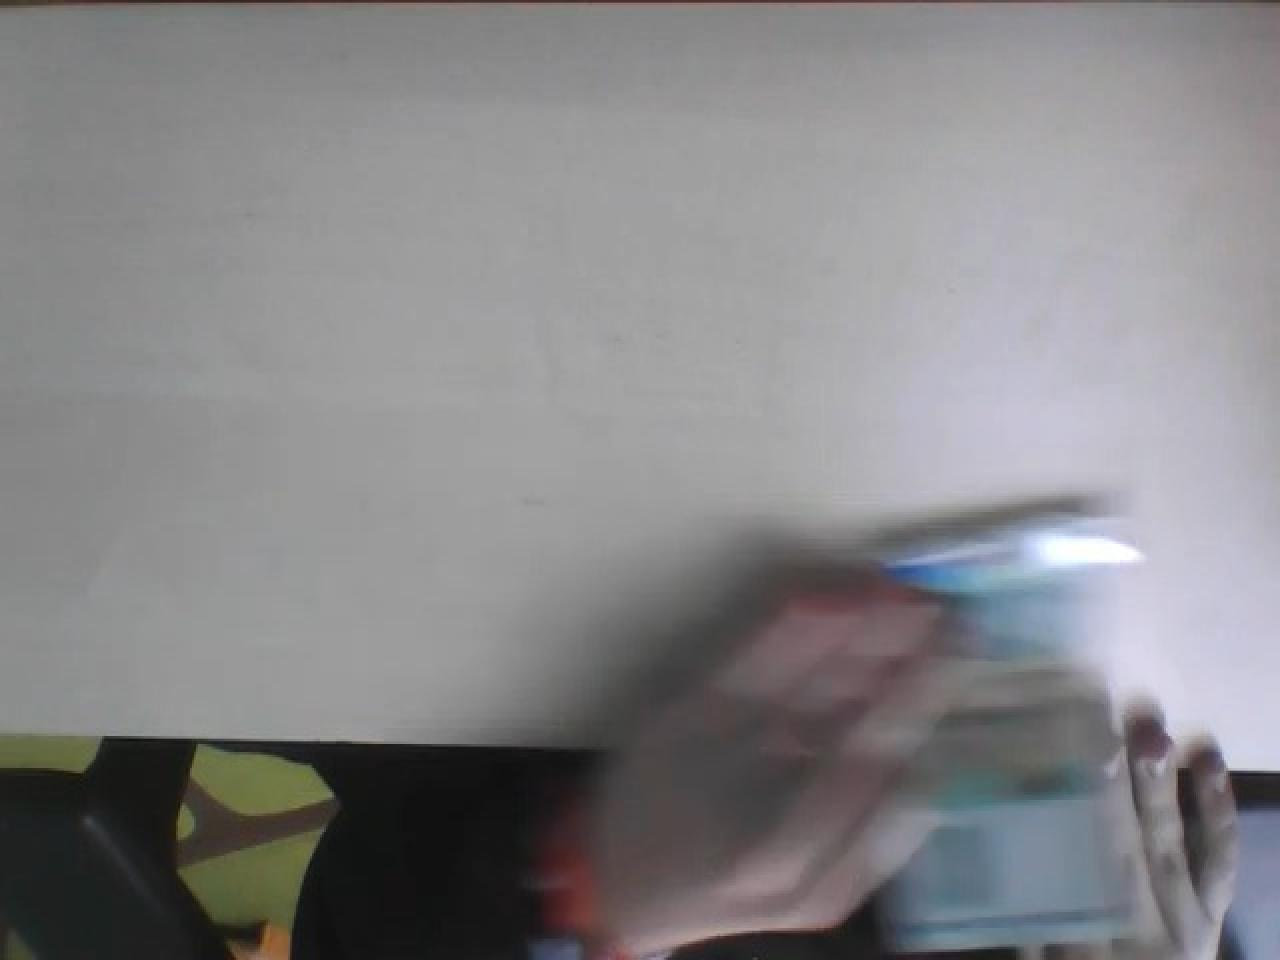100leva: (874, 688, 1144, 955)
